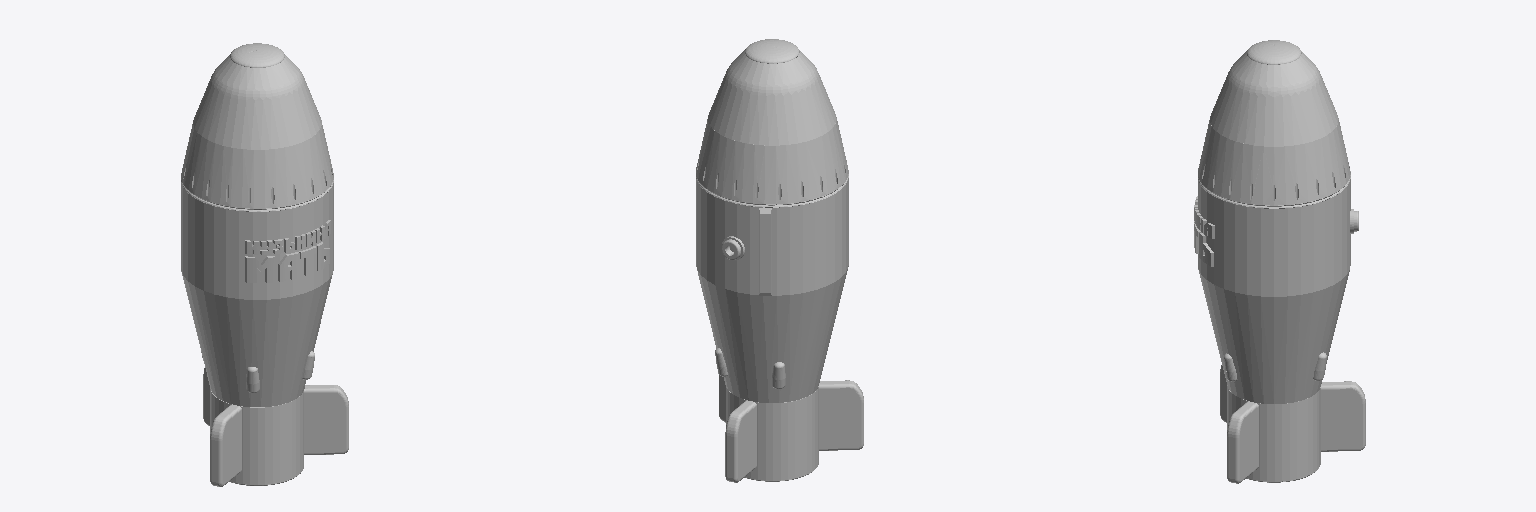
File: Кузькина Мать_11032020 v3.obj
The picture shows the model from 3 angles: view 1: azimuth 30°, elevation 25°; view 2: azimuth 150°, elevation 25°; view 3: azimuth 270°, elevation 25°; orthographic projection.
Parts seen in each view (by area): view 1: Body1:2, Body2:2, Body1:3, Body1:1, Body26, Body25, Body13, Body19; view 2: Body1:2, Body2:2, Body1:3, Body1:1, Body25, Body27, Body13:1; view 3: Body1:2, Body2:2, Body1:3, Body1:1, Body27, Body26.
Part boxes in pixels (x1,y1,x2,y2): Body1:2: (181,180,333,406); Body2:2: (193,43,321,149); Body1:3: (181,124,333,209); Body1:1: (210,389,303,485); Body26: (304,385,348,454); Body25: (210,405,241,486); Body13: (245,256,275,282); Body19: (278,252,299,281); Body1:2: (696,175,848,402); Body2:2: (708,39,836,145); Body1:3: (696,117,848,205); Body1:1: (726,386,818,481); Body25: (819,380,863,450); Body27: (725,400,756,482); Body13:1: (759,208,771,295); Body1:2: (1198,176,1350,403); Body2:2: (1210,40,1338,146); Body1:3: (1198,118,1350,206); Body1:1: (1227,386,1320,482); Body27: (1321,381,1365,451); Body26: (1227,401,1258,483).
Bounding box in the file's own units: 23.39 × 65.99 × 24.66.